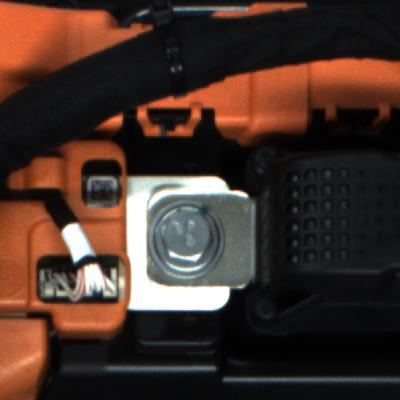nut_b: (137, 187, 230, 286)
